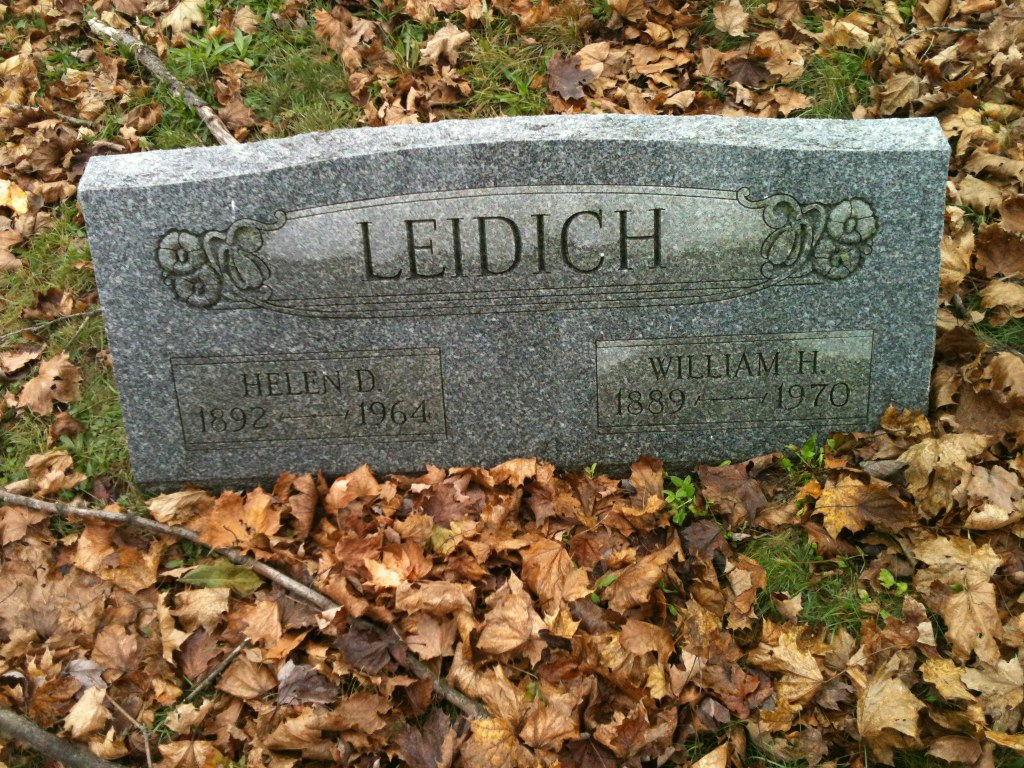upright: (79, 113, 952, 499)
